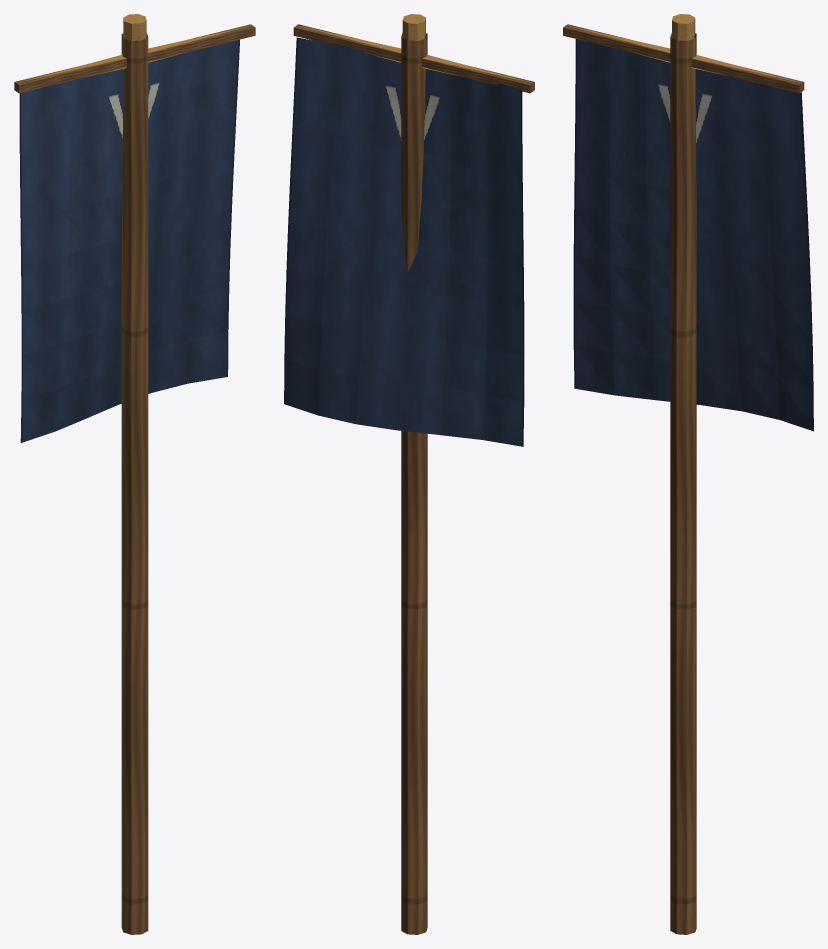
Rendered from ae_battle_banner_def_lod0.glb.
3 renders of one model, left to right at view 1: azimuth 30°, elevation 25°; view 2: azimuth 150°, elevation 25°; view 3: azimuth 330°, elevation 25°, orthographic.
Visible parts, largest first — view 1: ae_battle_banner_def_lod0; view 2: ae_battle_banner_def_lod0; view 3: ae_battle_banner_def_lod0.
Part boxes in pixels (x1=…): ae_battle_banner_def_lod0: x1=14, y1=14, x2=255, y2=934; ae_battle_banner_def_lod0: x1=284, y1=14, x2=534, y2=934; ae_battle_banner_def_lod0: x1=563, y1=14, x2=813, y2=934.
Bounding box in the file's own units: 3.6 × 13.24 × 0.7532.
1 material, 1 textured.
